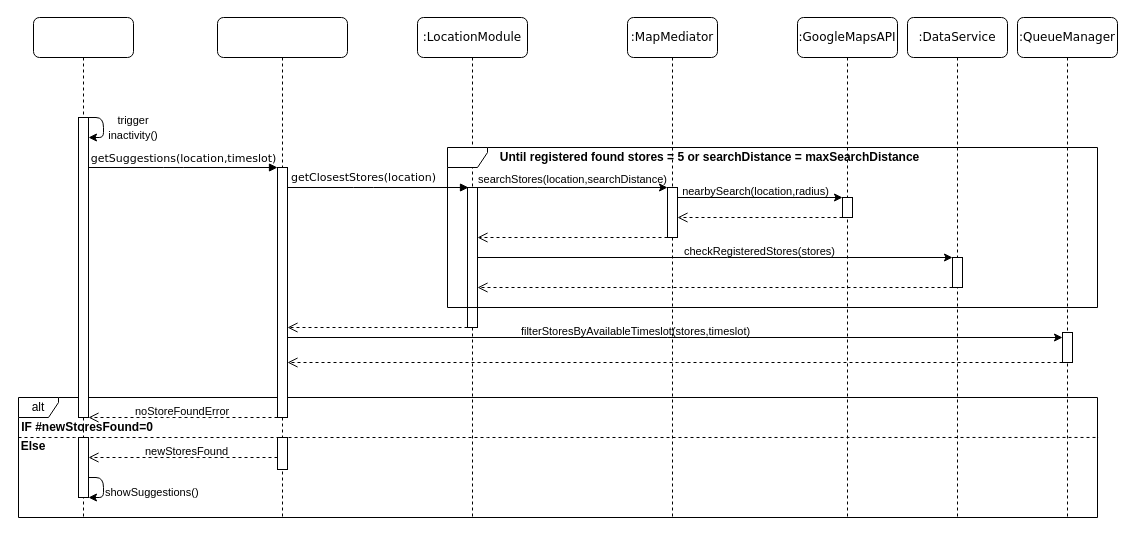
This 1135x535 diagram has some shape labels left out. Here are the shapes that lost their labels. From the top down, the box of each, then its label:
(446, 146, 1098, 308): loop
(32, 16, 134, 518): :MobileApp
(216, 16, 348, 518): :NotificationManager
